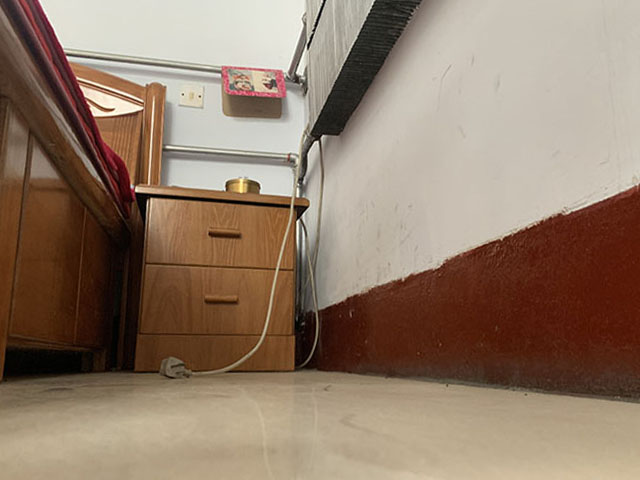bed: (1, 1, 168, 381)
cabinet: (133, 181, 310, 376)
wire: (159, 329, 269, 378), (296, 216, 326, 372)
